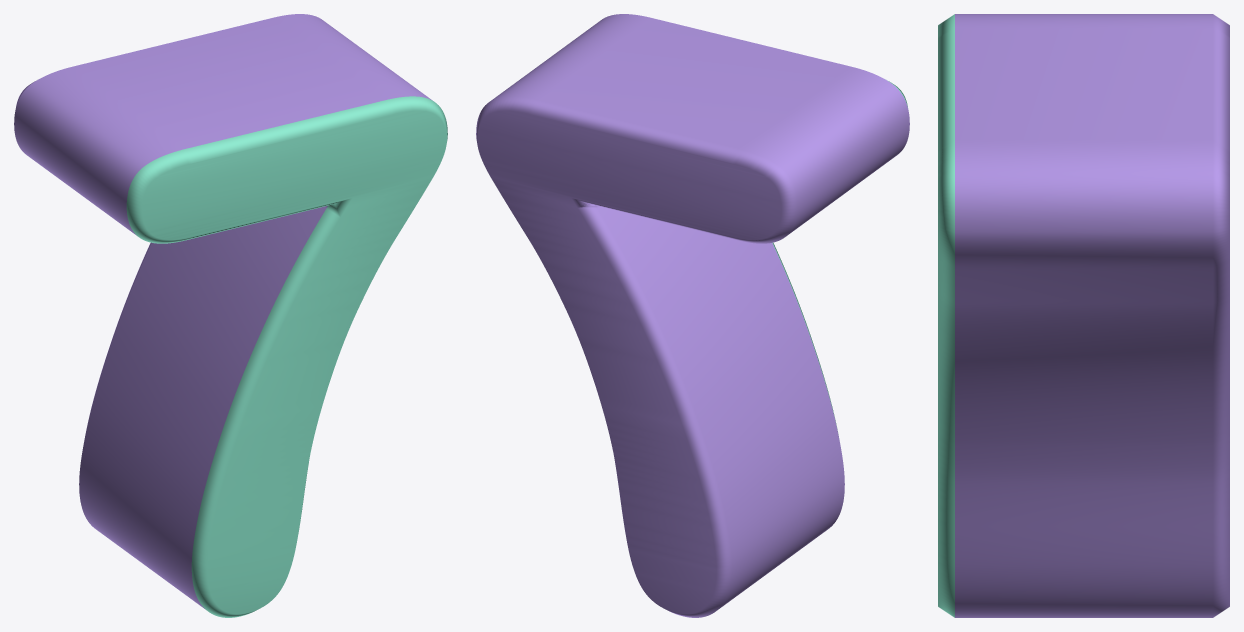
3 renders of one model, left to right at view 1: azimuth 30°, elevation 25°; view 2: azimuth 150°, elevation 25°; view 3: azimuth 270°, elevation 25°, orthographic. The views are drawn at different scales.
Parts seen in each view (by area): view 1: Tujuh 3D; view 2: Tujuh 3D; view 3: Tujuh 3D.
Part boxes in pixels (x1,y1,x2,y2): Tujuh 3D: (14, 14, 447, 617); Tujuh 3D: (476, 14, 909, 617); Tujuh 3D: (938, 14, 1229, 617).
Size of the model in its own units: 113 by 162 by 77.6.
